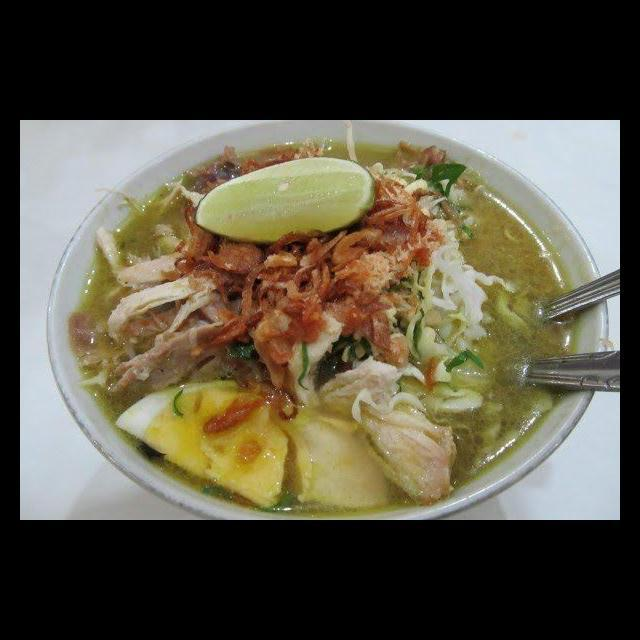Soto: (66, 130, 576, 512)
